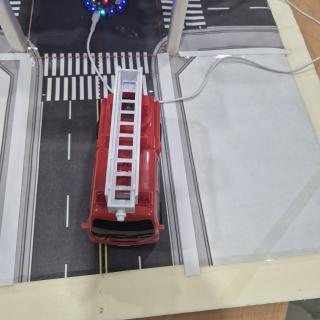Fire_truck: (81, 67, 164, 246)
